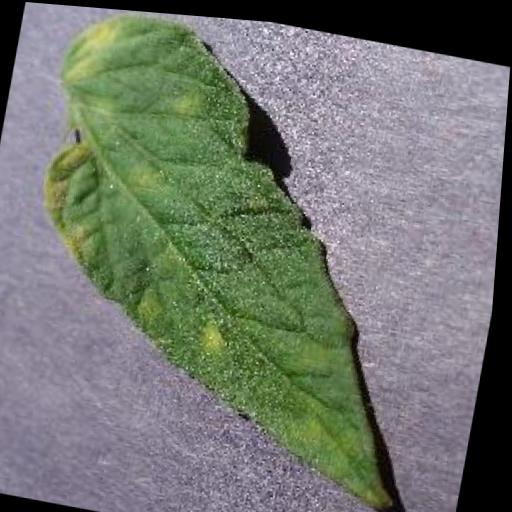Leaf Mold: (0, 2, 475, 512)
